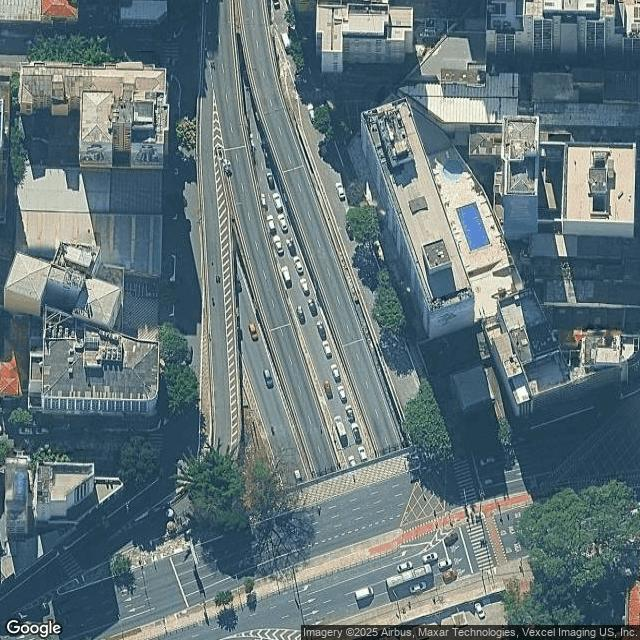pool: (473, 223, 487, 248), (451, 169, 459, 183)
